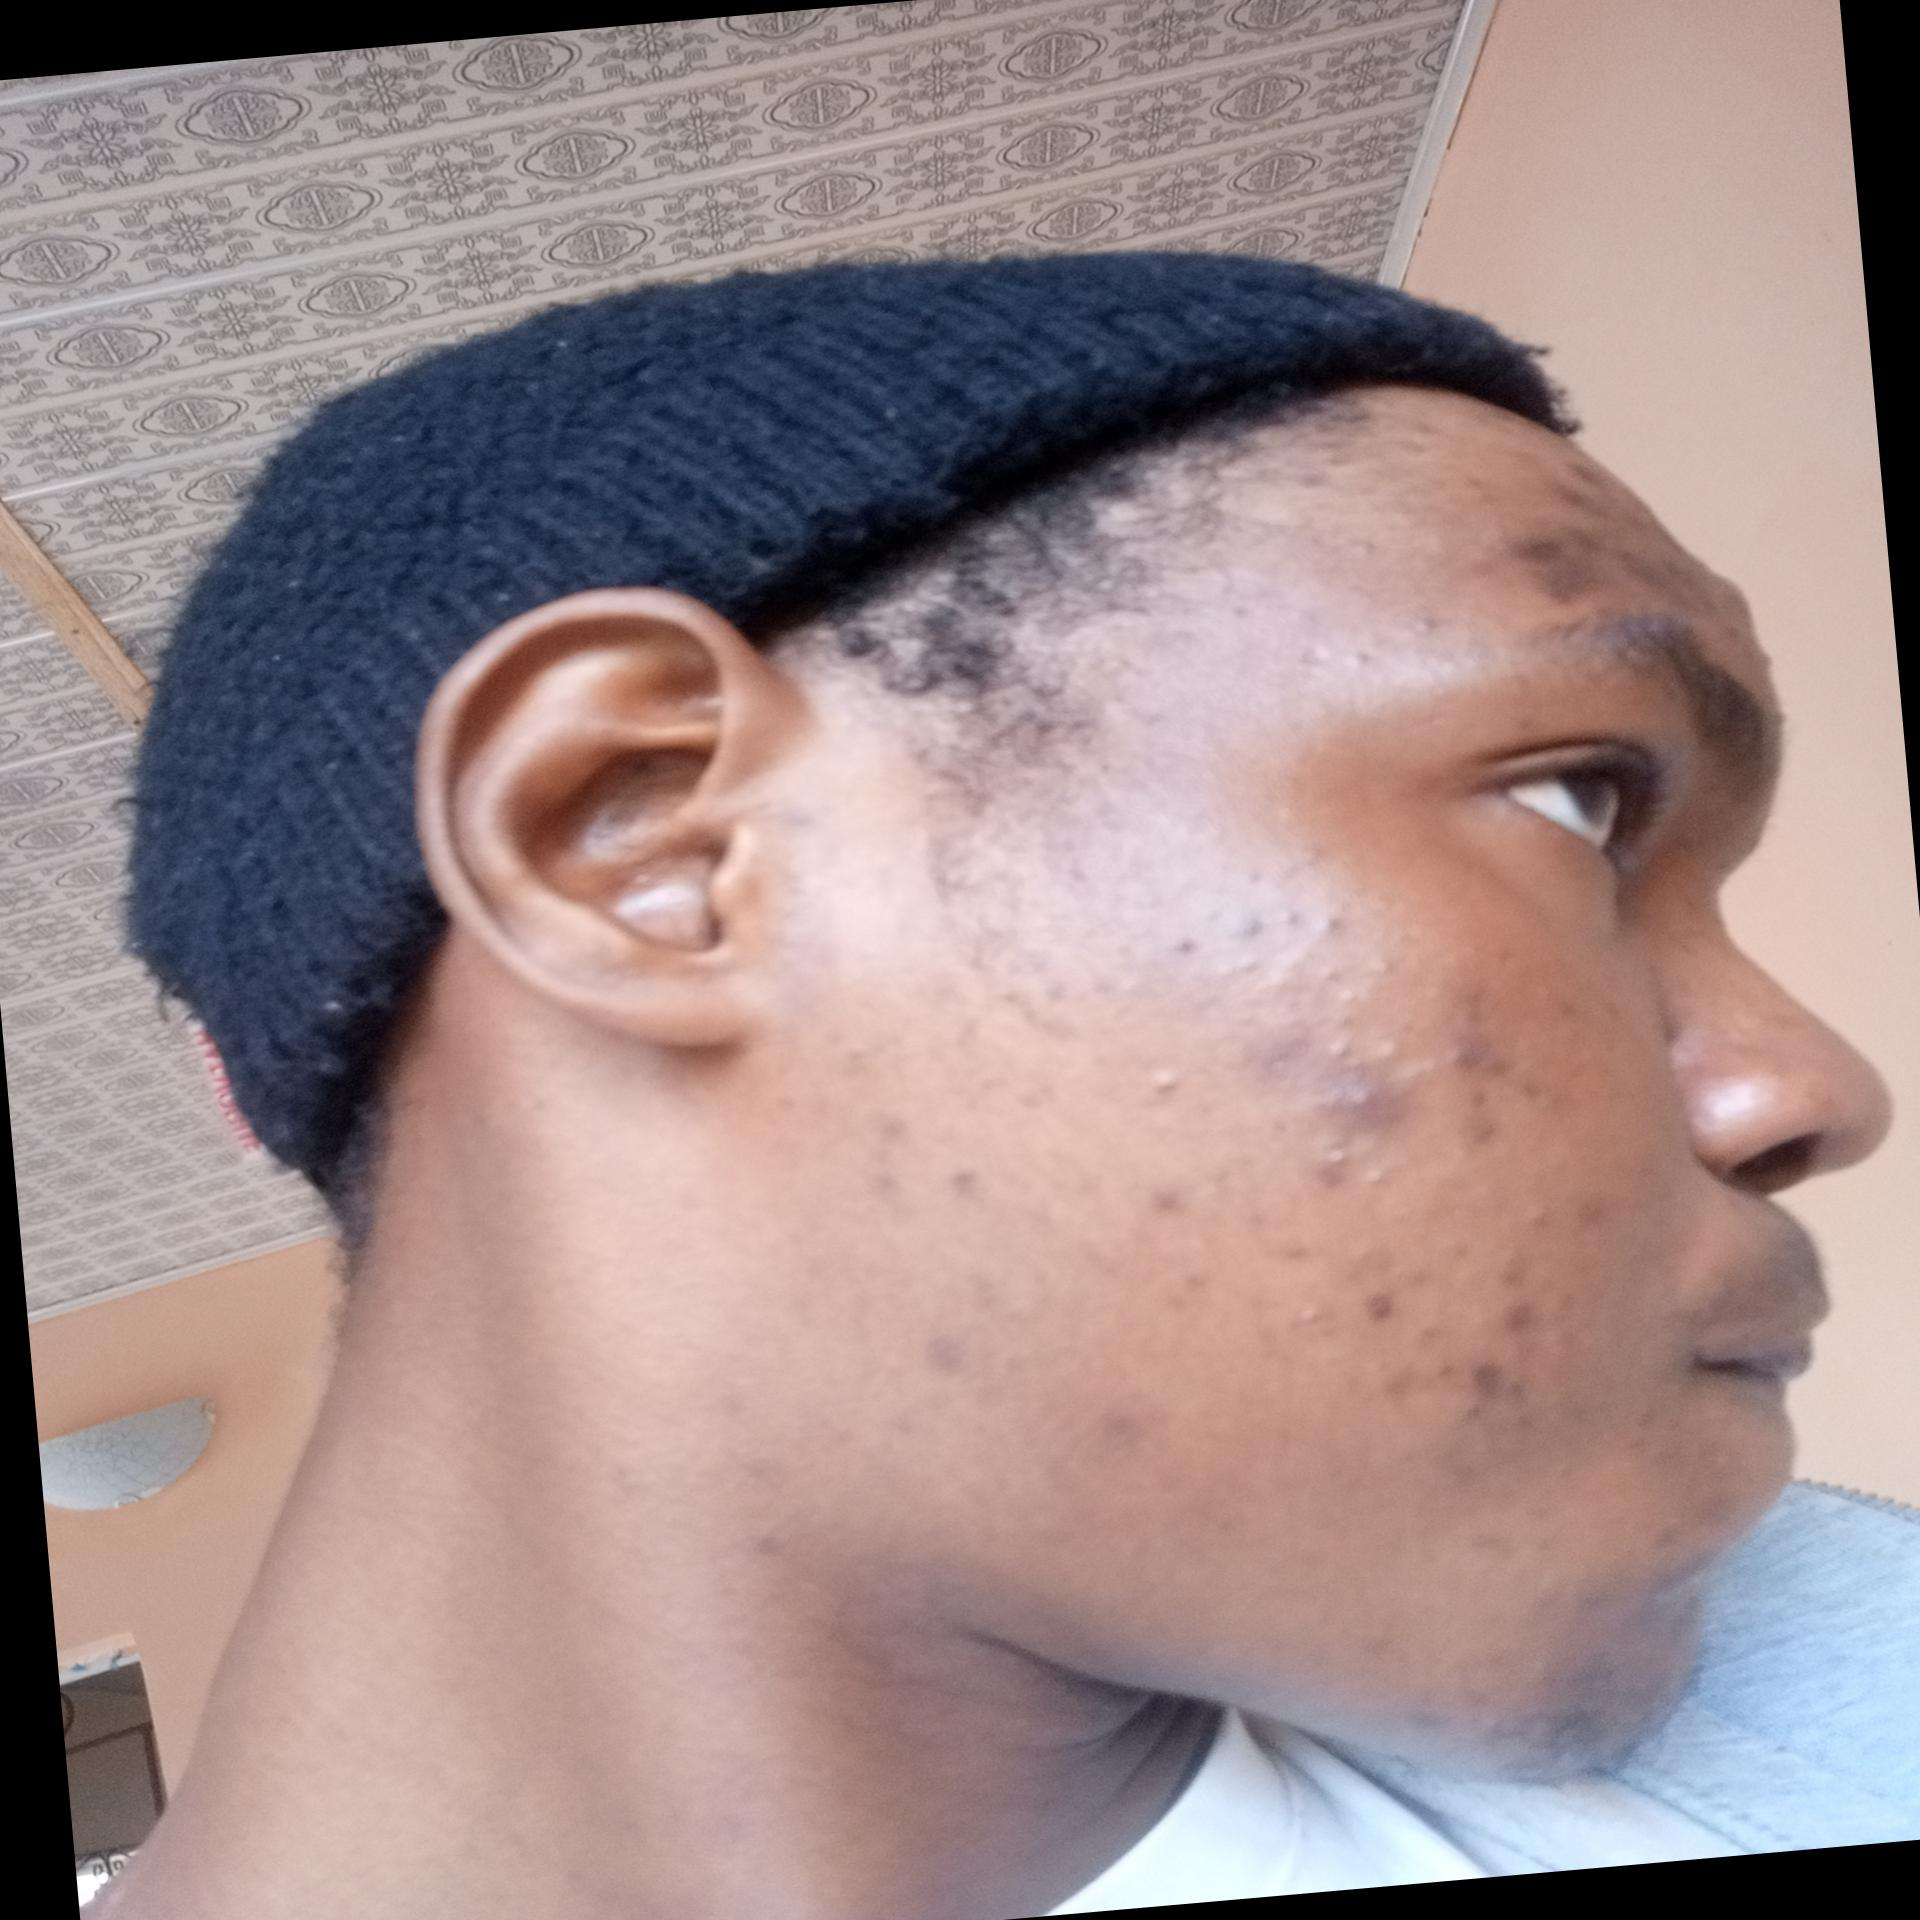Acne: (1234, 1000, 1428, 1206), (1363, 1342, 1568, 1444), (1261, 1222, 1417, 1329), (1433, 983, 1523, 1143), (1491, 520, 1614, 619), (1616, 540, 1742, 628), (844, 1092, 927, 1215), (1217, 890, 1366, 953), (1493, 1189, 1616, 1247), (1528, 441, 1611, 522), (1287, 624, 1394, 682), (1484, 1254, 1556, 1336), (1593, 1396, 1679, 1465), (1371, 410, 1461, 471), (911, 1308, 995, 1371), (1452, 1519, 1556, 1568), (1306, 520, 1389, 582), (1159, 1248, 1233, 1315), (1623, 1510, 1700, 1567), (955, 1255, 1020, 1322), (1407, 1444, 1495, 1489), (1129, 1060, 1192, 1116), (1129, 1166, 1192, 1218), (1097, 1396, 1159, 1445), (934, 1153, 993, 1203), (749, 1519, 798, 1572), (1391, 1697, 1461, 1734), (1159, 928, 1203, 972), (1396, 603, 1444, 642)
